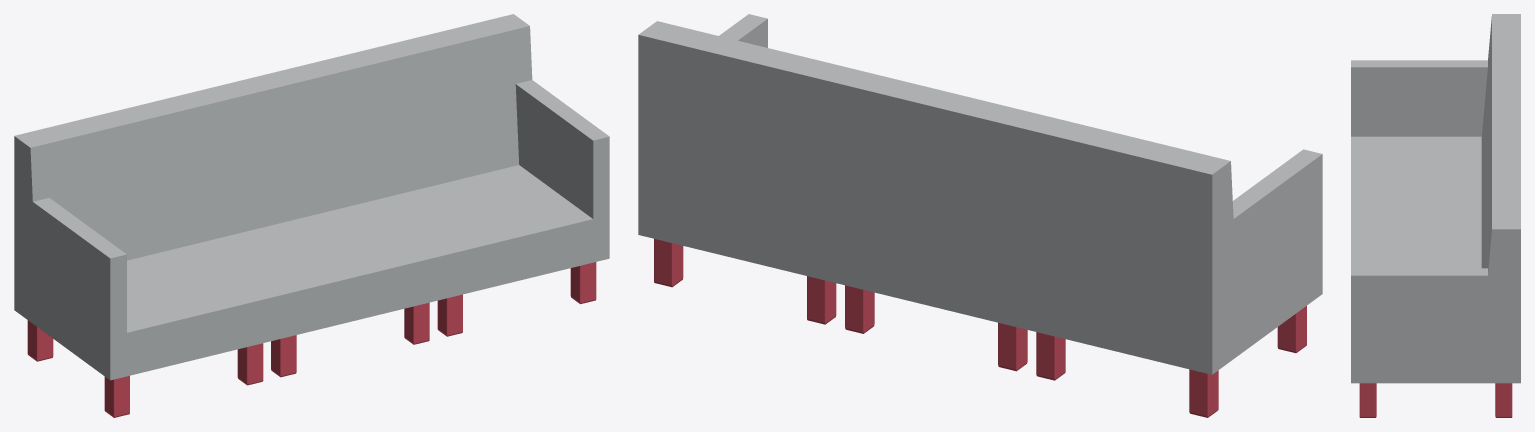
3 renders of one model, left to right at view 1: azimuth 30°, elevation 25°; view 2: azimuth 150°, elevation 25°; view 3: azimuth 270°, elevation 25°, orthographic. The views are drawn at different scales.
Visible parts, largest first — view 1: Mesh_Mesh_head_geo.001_lambert2SG.001; view 2: Mesh_Mesh_head_geo.001_lambert2SG.001; view 3: Mesh_Mesh_head_geo.001_lambert2SG.001.
Part boxes in pixels (<box>): Mesh_Mesh_head_geo.001_lambert2SG.001: <box>14,14,609,417</box>; Mesh_Mesh_head_geo.001_lambert2SG.001: <box>638,14,1322,417</box>; Mesh_Mesh_head_geo.001_lambert2SG.001: <box>1351,14,1520,417</box>.
Size of the model in its own units: 60 by 25 by 20.
